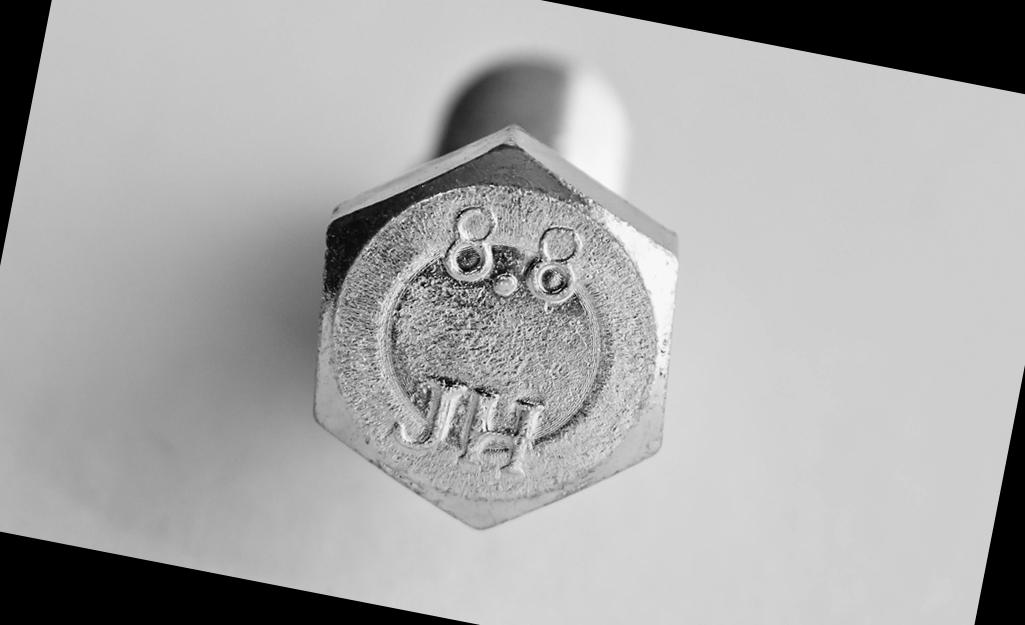screw: (273, 94, 716, 561)
